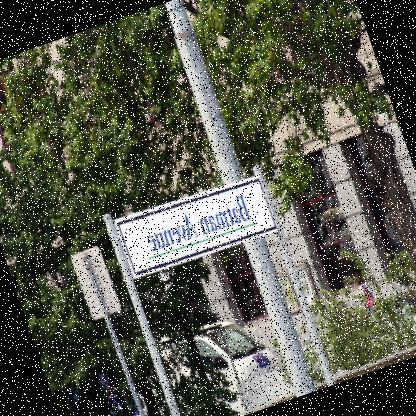Car: (93, 301, 292, 415), (347, 275, 415, 347)
